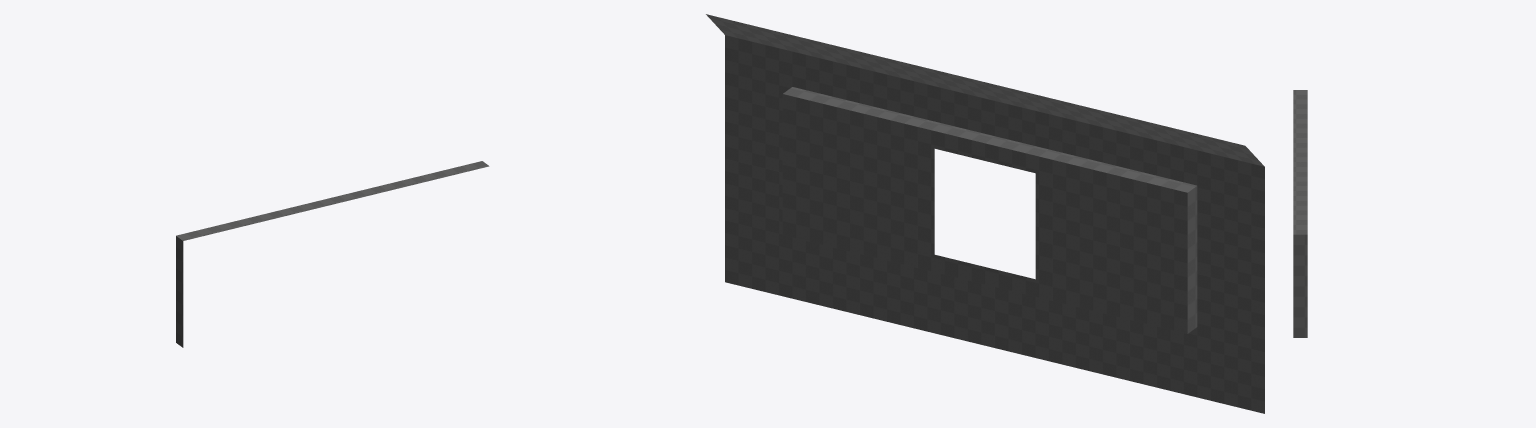
3 views of the same model, side by side, from view 1: azimuth 30°, elevation 25°; view 2: azimuth 150°, elevation 25°; view 3: azimuth 270°, elevation 25° (orthographic). The views are drawn at different scales.
Parts seen in each view (by area): view 1: CubeInDownBackV1; view 2: CubeInDownBackV1; view 3: CubeInDownBackV1.
Boxes of the visible parts, x1=… form: CubeInDownBackV1: x1=176, y1=161, x2=489, y2=347; CubeInDownBackV1: x1=706, y1=14, x2=1264, y2=413; CubeInDownBackV1: x1=1293, y1=90, x2=1307, y2=337.
Size of the model in its own units: 4 by 2 by 2.
1 material, 1 textured.
